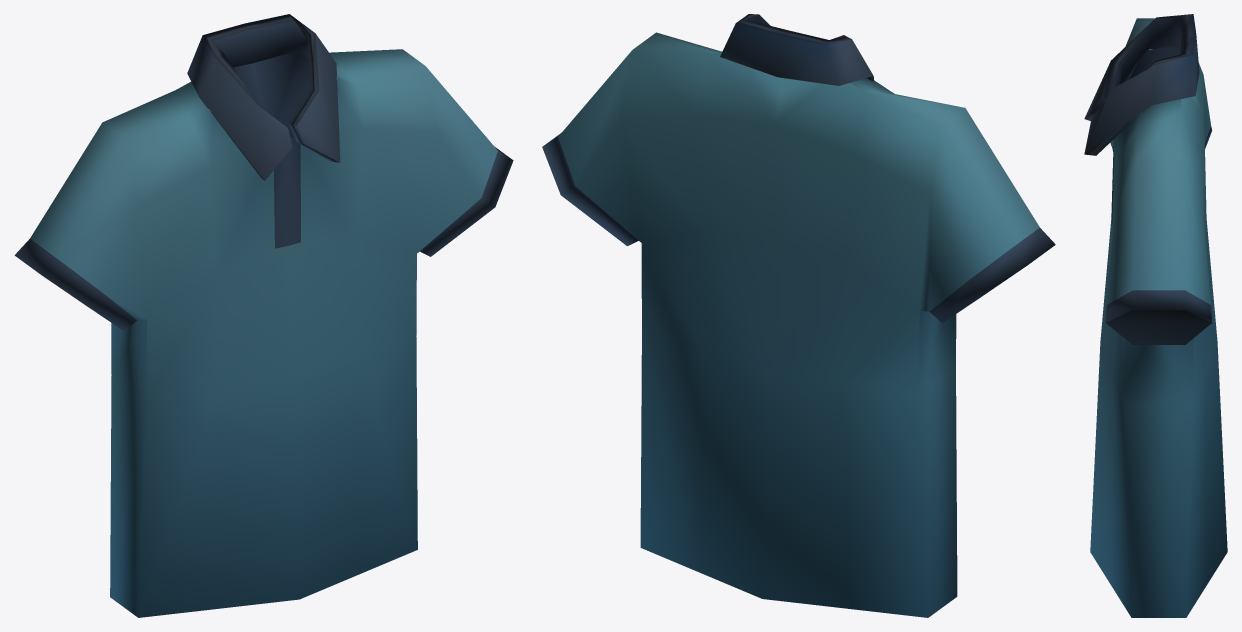
The model's file is human-clothing-shirt_v1.glb.
3 renders of one model, left to right at view 1: azimuth 30°, elevation 25°; view 2: azimuth 150°, elevation 25°; view 3: azimuth 270°, elevation 25°, orthographic. The views are drawn at different scales.
Visible parts, largest first — view 1: Shirt_v1; view 2: Shirt_v1; view 3: Shirt_v1.
Part boxes in pixels (<box>): Shirt_v1: <box>14,14,513,617</box>; Shirt_v1: <box>542,14,1055,617</box>; Shirt_v1: <box>1084,14,1227,617</box>.
Size of the model in its own units: 0.6448 by 0.7 by 0.1757.
